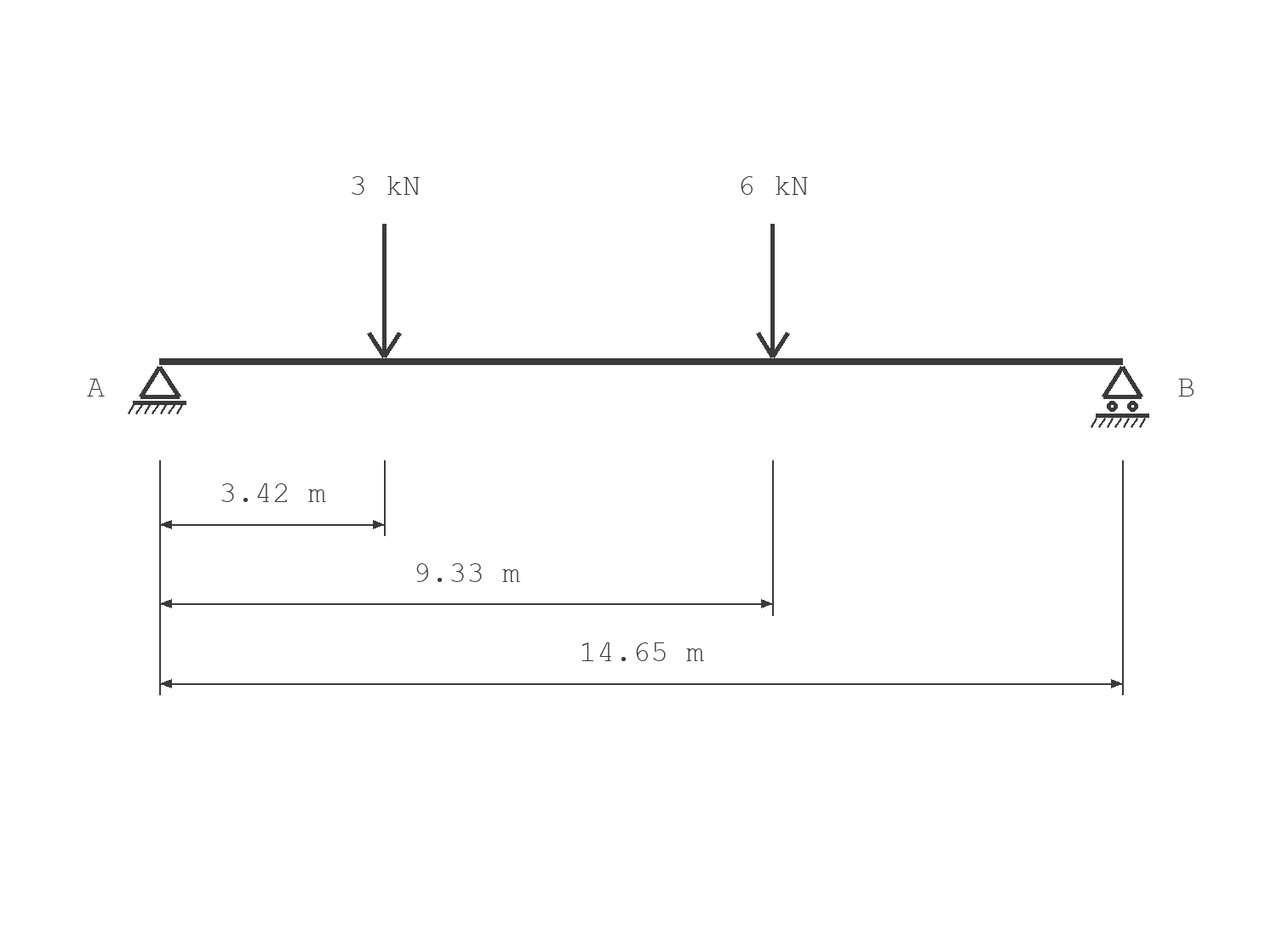pin_support: (128, 366, 186, 414)
point_load: (367, 224, 402, 358), (756, 224, 790, 358)
roller_support: (1091, 366, 1149, 428)
